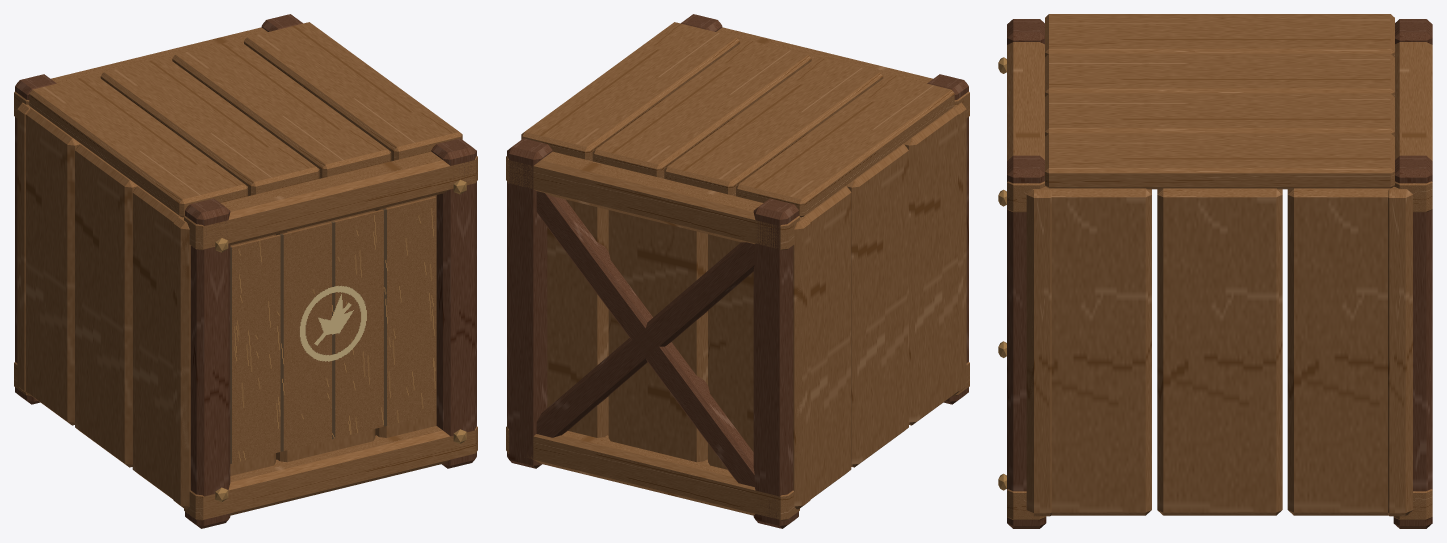
Rendered from crate.glb.
3 views of the same model, side by side, from view 1: azimuth 30°, elevation 25°; view 2: azimuth 150°, elevation 25°; view 3: azimuth 270°, elevation 25° (orthographic). The views are drawn at different scales.
Visible parts, largest first — view 1: Plank; view 2: Plank; view 3: Plank.
Boxes of the visible parts, bbox=[...] form: Plank: bbox=[14, 14, 477, 528]; Plank: bbox=[506, 14, 969, 528]; Plank: bbox=[998, 14, 1432, 528].
Size of the model in its own units: 0.74 by 0.7665 by 0.8317.
4 materials, 3 textured.
